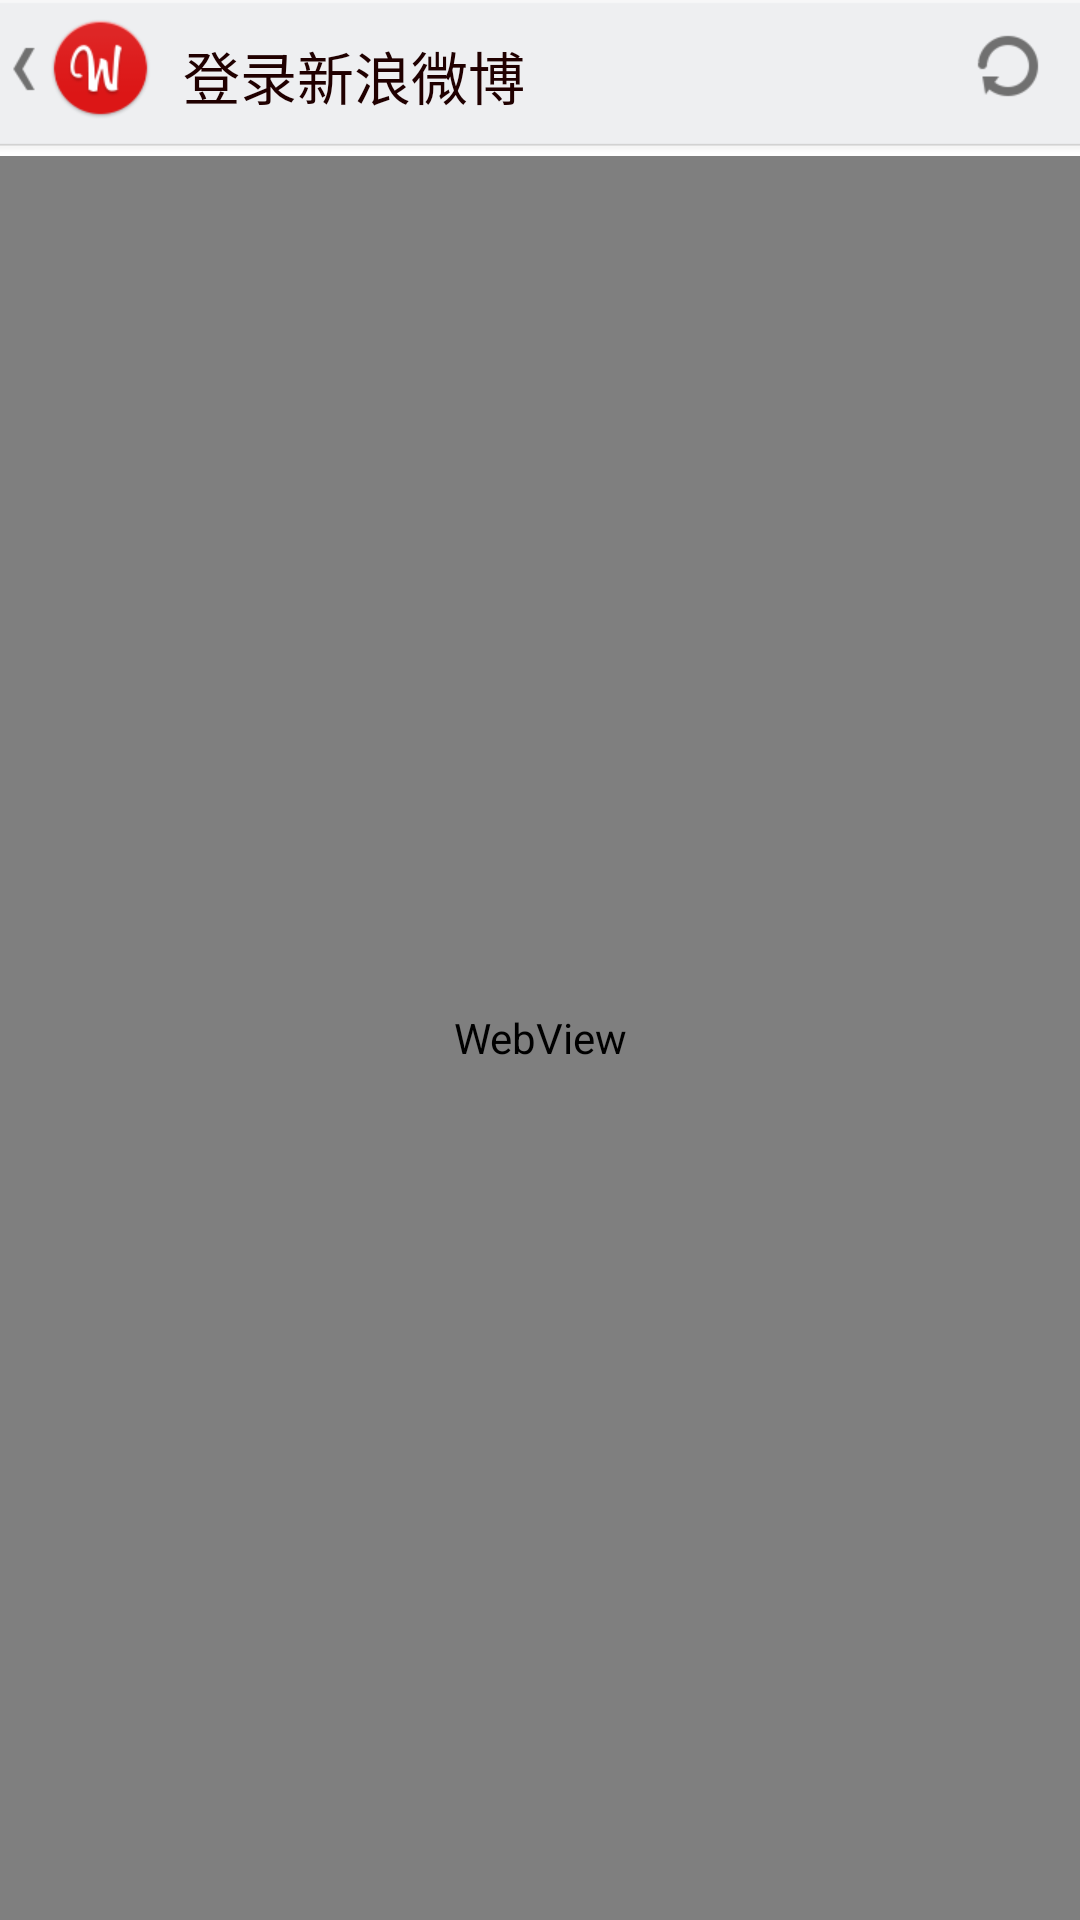

Icon bounding boxes for this 1080px x 1920px phone screenshot, format (x1, y1, x2, y2):
activity back: (13, 48, 35, 90)
reload: (978, 36, 1038, 96)
